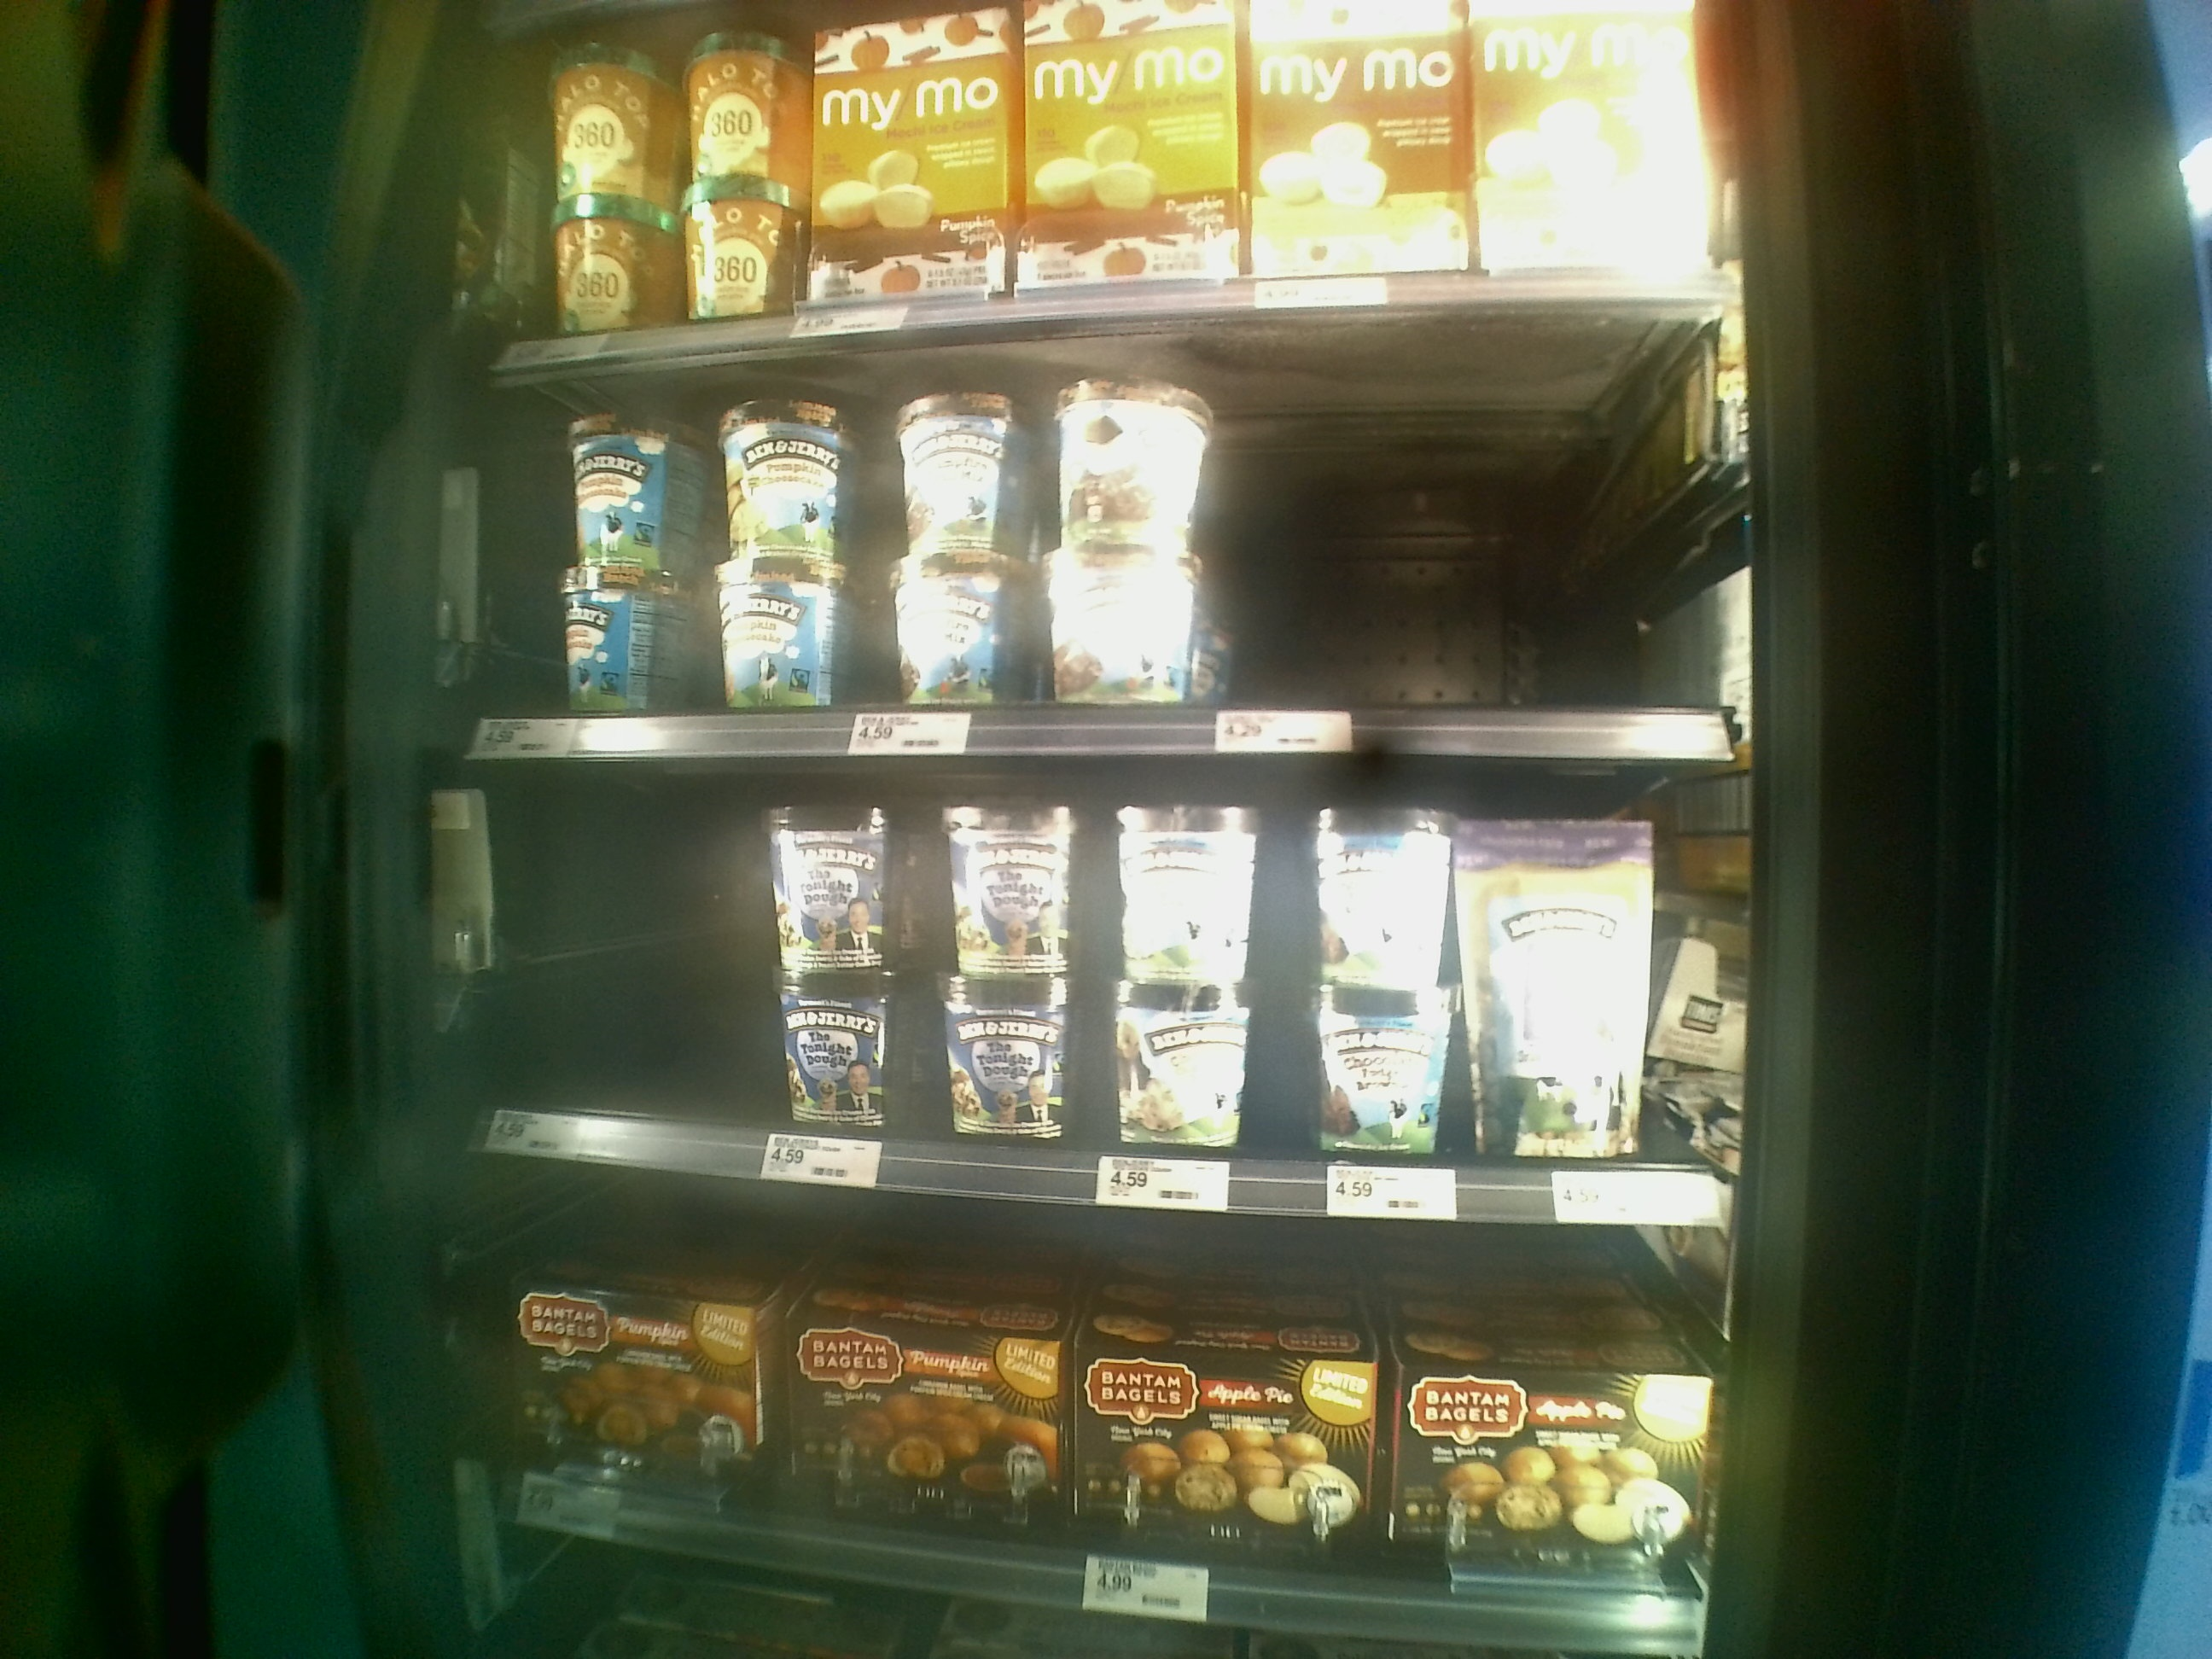shelf: (427, 753, 1747, 1230), (451, 354, 1778, 775)
